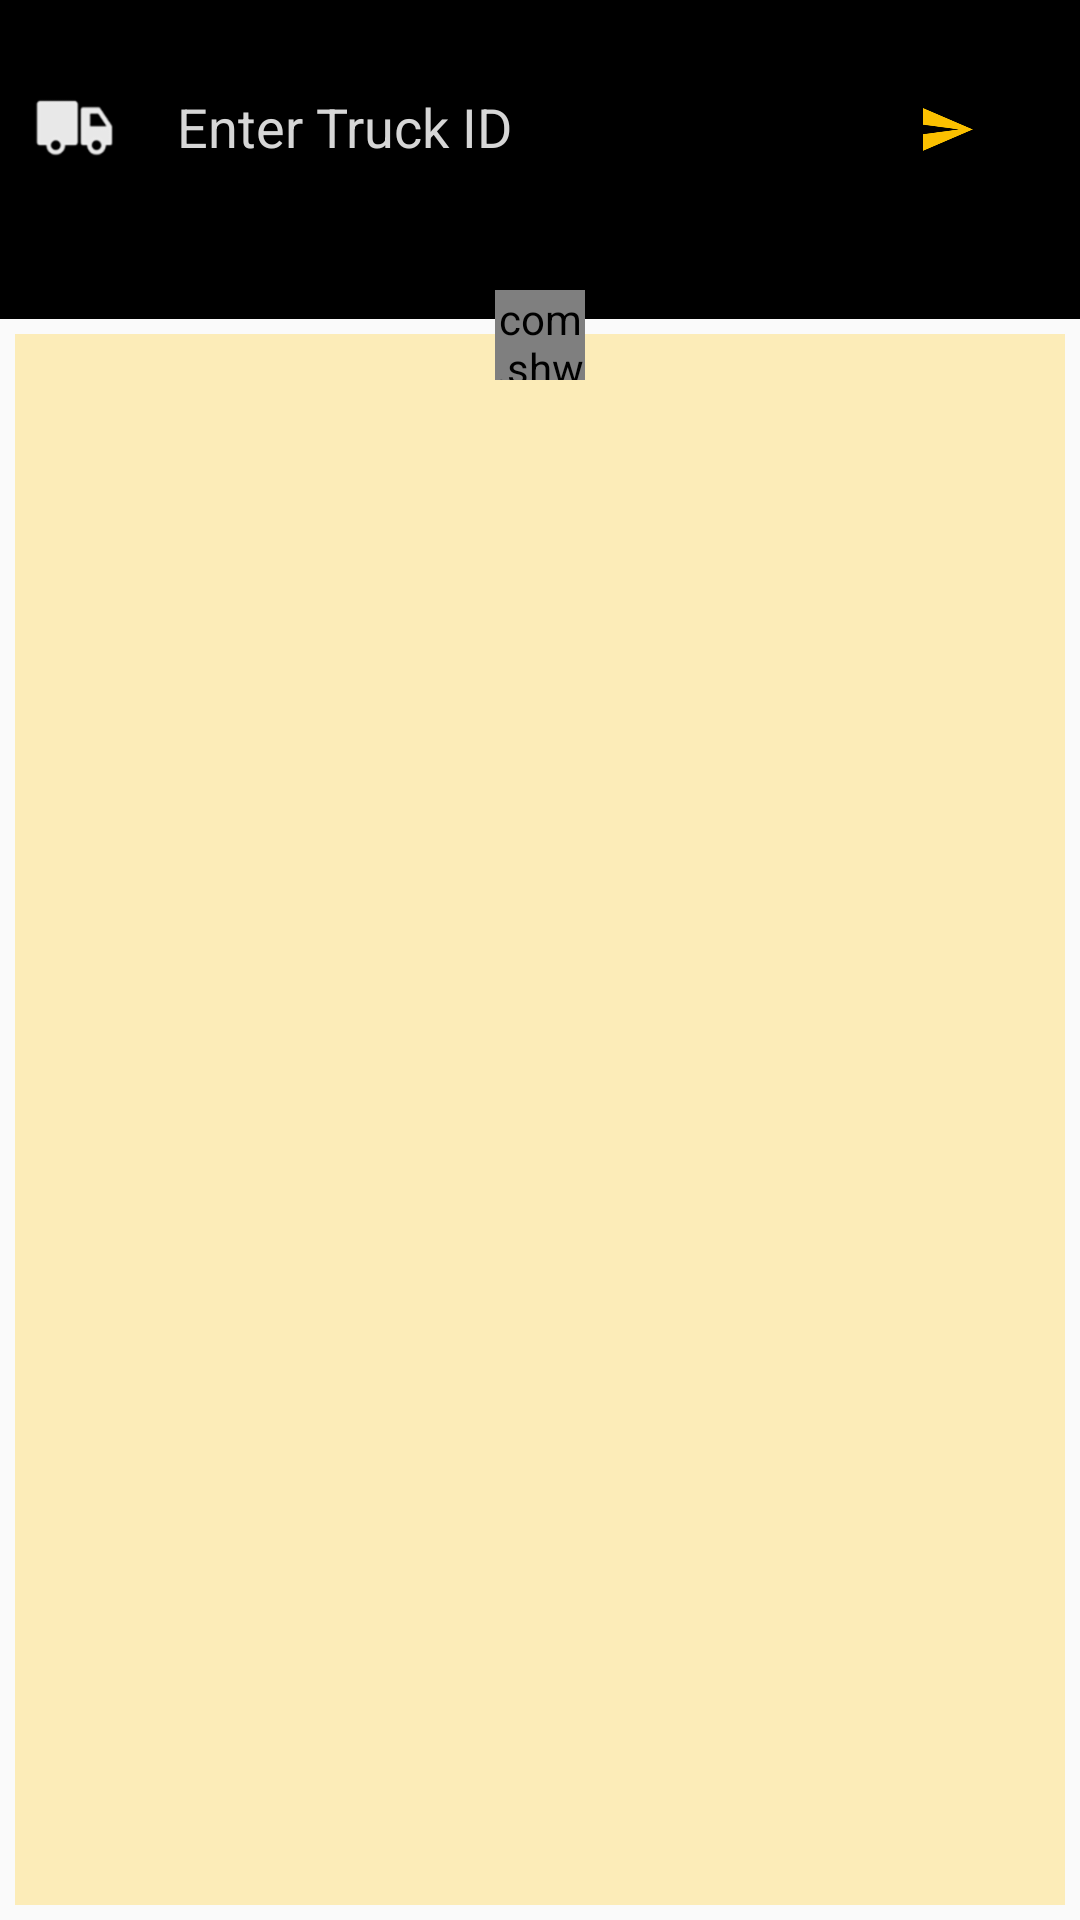

Where icons sit on this 1080px×1920px app screen, as (x1, y1, x2, y2):
Loading Truck Symbol: (36, 100, 113, 156)
